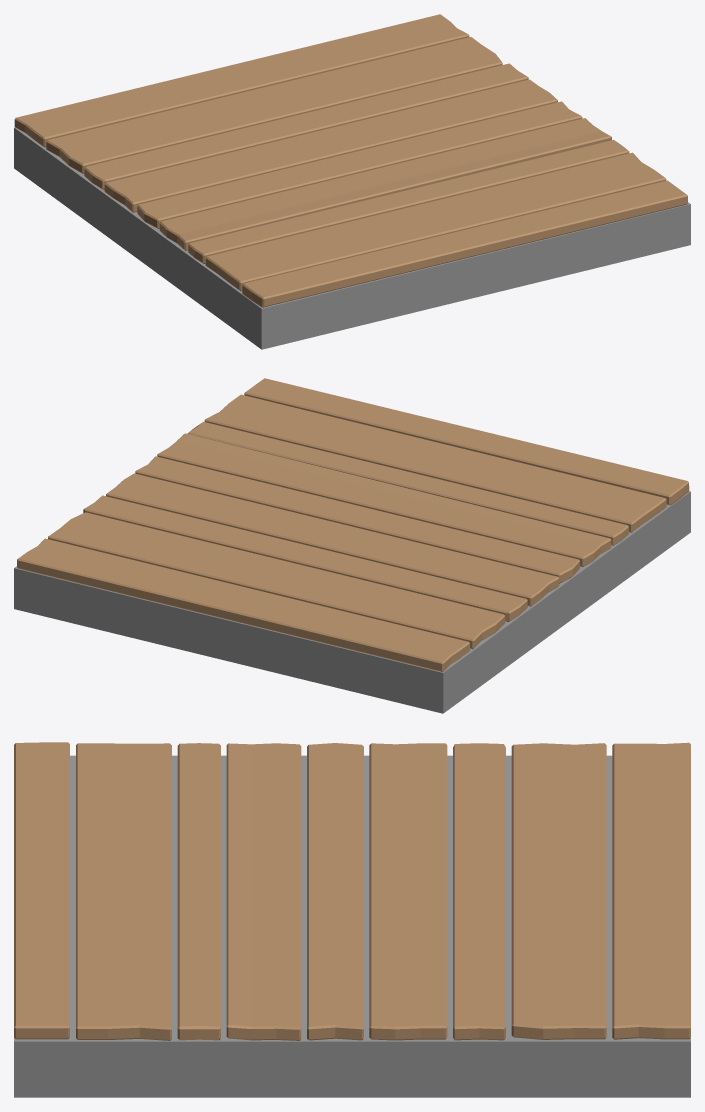
File: foundation-a.glb
The picture shows the model from 3 angles, top to bottom: view 1: azimuth 30°, elevation 25°; view 2: azimuth 150°, elevation 25°; view 3: azimuth 270°, elevation 25°; orthographic projection. The views are drawn at different scales.
Visible parts, largest first — view 1: Foundation A (×2); view 2: Foundation A (×2); view 3: Foundation A (×2).
Part boxes in pixels (x1,y1,x2,y2): Foundation A (×2): [14, 14, 690, 349]; Foundation A (×2): [14, 378, 690, 713]; Foundation A (×2): [14, 742, 690, 1097].
Size of the model in its own units: 3.3 by 0.3838 by 3.3.
